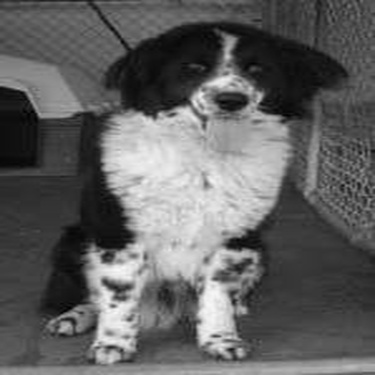dog: (23, 8, 357, 366)
